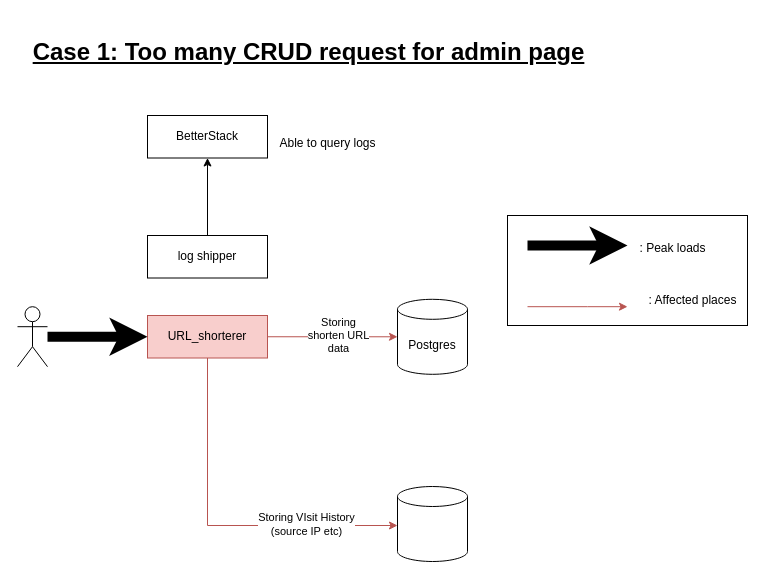
This 765x579 diagram has some shape labels left out. The centre of each missing label's shape, as x and y in pixels:
Client: (x=32, y=336)
Redis: (x=432, y=524)
